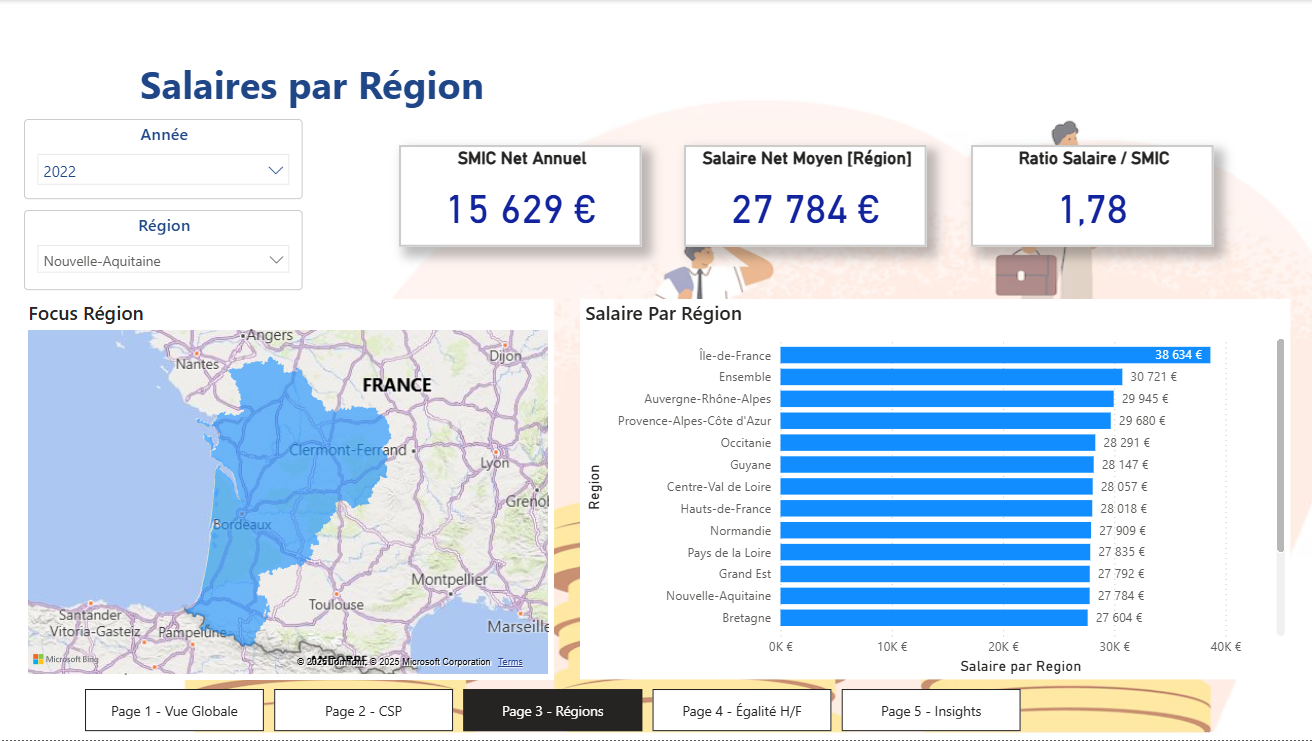

The dashboard page shown, as its layout file describes it:
{"tool":"powerbi","page":{"name":"Page 3 - Régions","canvas":[1280,720],"ordinal":2},"visuals":[{"type":"slicer","title":"Région","fields":{"Values":["Dim_Region.Libelle"]},"box":[25.8,204.6,271.2,78.2],"z":0},{"type":"card","title":"Salaire Net Moyen [Région]","fields":{"Values":["_Measure.Salaire par Region"]},"box":[668.2,141.4,235.5,99],"z":1000},{"type":"card","title":"SMIC Net Annuel","fields":{"Values":["_Measure.SMIC"]},"box":[391.1,141.4,235.5,99],"z":2000},{"type":"card","title":"Ratio Salaire / SMIC","fields":{"Values":["_Measure.Ratio Salaire CSP/Smic"]},"box":[947.3,141.4,235.5,99],"z":3000},{"type":"textbox","box":[26.1,34.4,560.3,78.3],"z":4000},{"type":"slicer","title":"Année","fields":{"Values":["_Calendrier.Annee"]},"box":[25.8,115.5,271.2,78.2],"z":5000},{"type":"filledMap","title":"Focus Région","fields":{"Category":["Dim_Region.Libelle"]},"box":[25.3,290.8,516.5,369.6],"z":6000},{"type":"clusteredBarChart","title":"Salaire Par Région","fields":{"Category":["Dim_Region.Libelle"],"Y":["_Measure.Salaire par Region"]},"box":[567.1,290.8,690.6,369.6],"z":7000},{"type":"pageNavigator","box":[85.6,670.2,913.3,41.8],"z":7001}]}

Visuals, with their boxes on the page's 1280x720 design canvas (x1, y1, x2, y2). These are canvas units, not pixel positions in the 1312x741 screenshot, which may show the page scaled, cropped or inside an application window:
"Région" slicer: [x1=26, y1=205, x2=297, y2=283]
"Salaire Net Moyen [Région]" card: [x1=668, y1=141, x2=904, y2=240]
"SMIC Net Annuel" card: [x1=391, y1=141, x2=627, y2=240]
"Ratio Salaire / SMIC" card: [x1=947, y1=141, x2=1183, y2=240]
textbox: [x1=26, y1=34, x2=586, y2=113]
"Année" slicer: [x1=26, y1=116, x2=297, y2=194]
"Focus Région" filledMap: [x1=25, y1=291, x2=542, y2=660]
"Salaire Par Région" clusteredBarChart: [x1=567, y1=291, x2=1258, y2=660]
pageNavigator: [x1=86, y1=670, x2=999, y2=712]
